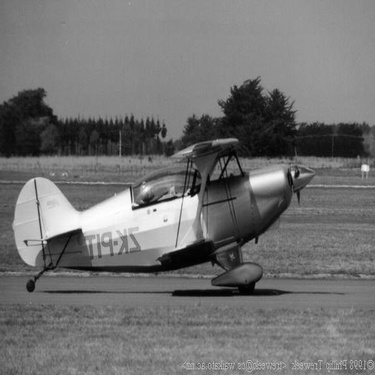airplane: (9, 126, 318, 299)
